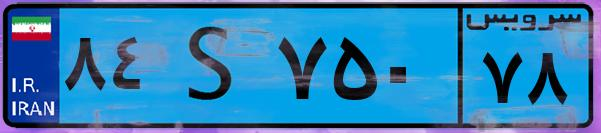0: (385, 28, 445, 110)
4: (110, 28, 158, 98)
5: (330, 28, 385, 110)
7: (270, 28, 330, 110), (475, 38, 525, 113)
8: (57, 26, 110, 100), (525, 38, 570, 115)
S: (158, 12, 270, 120)
